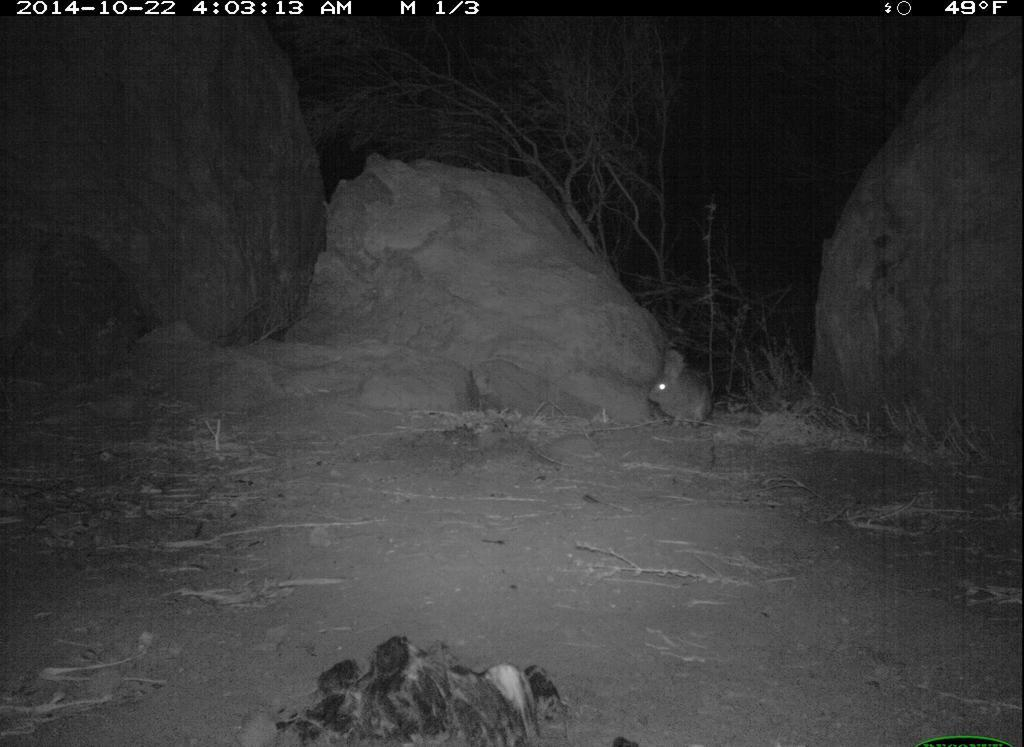rabbit: (647, 345, 715, 437)
